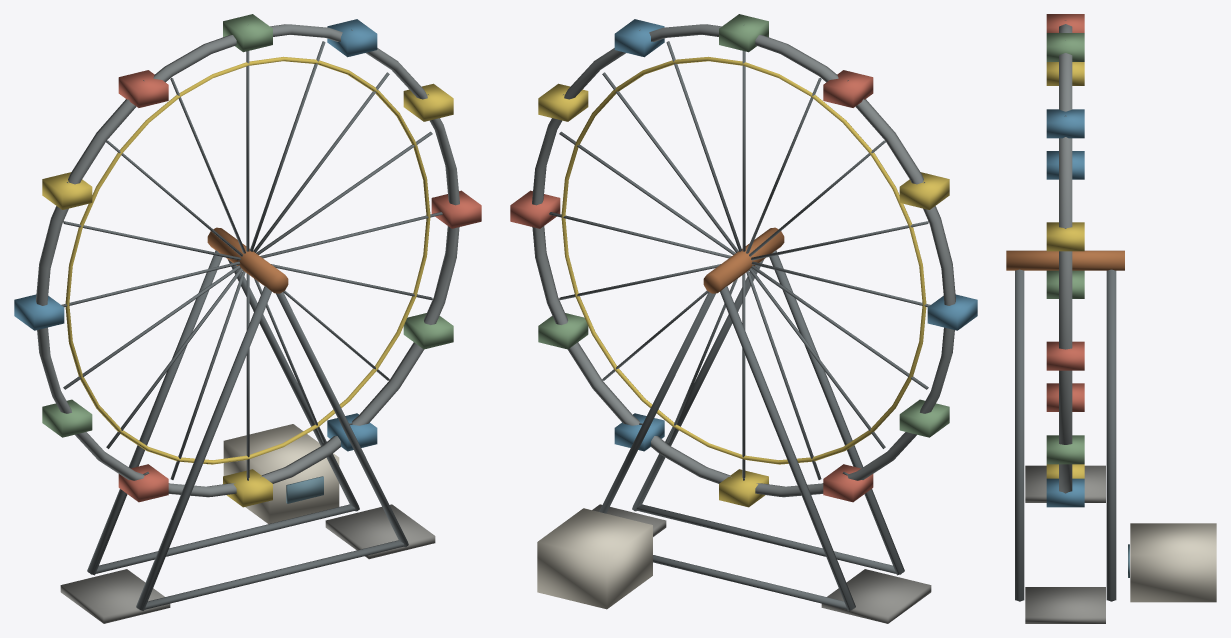
The model's file is ferris-wheel.glb.
3 views of the same model, side by side, from view 1: azimuth 30°, elevation 25°; view 2: azimuth 150°, elevation 25°; view 3: azimuth 270°, elevation 25° (orthographic). The views are drawn at different scales.
Visible parts, largest first — view 1: world; view 2: world; view 3: world.
Boxes of the visible parts, box(x1,y1,x2,y2) form: world: box(14, 14, 481, 623); world: box(510, 14, 977, 623); world: box(1006, 14, 1216, 623).
Size of the model in its own units: 27.6 by 32 by 12.
